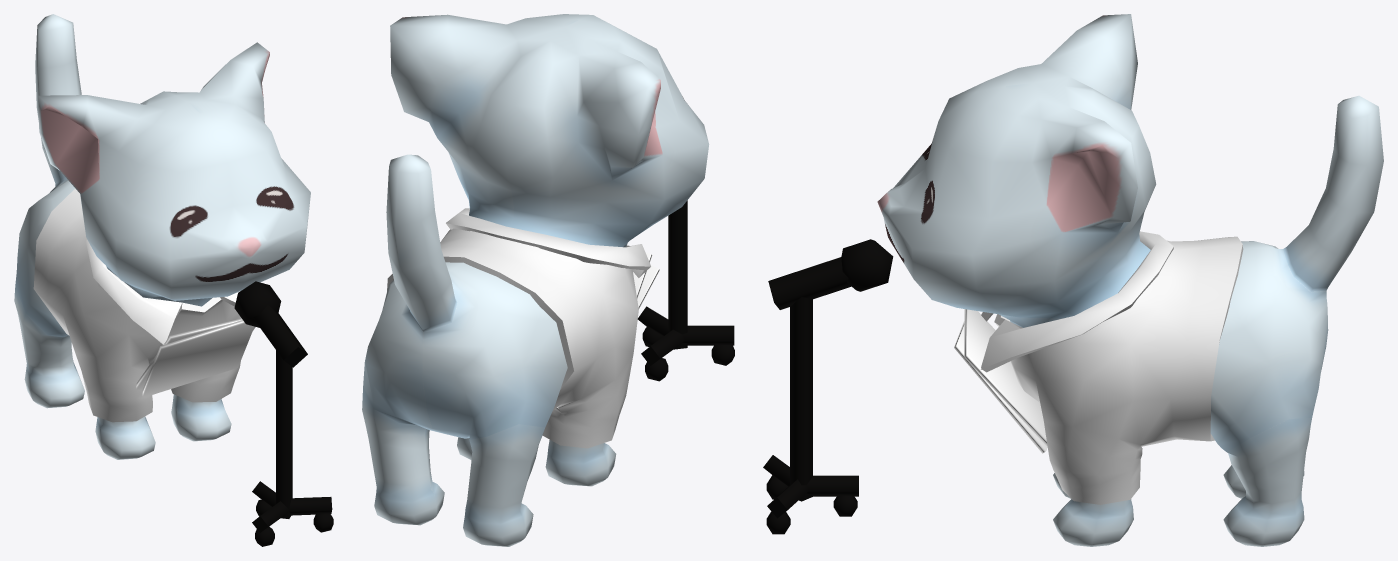
The model's file is Press Cat05.fbx.
The picture shows the model from 3 angles, left to right: view 1: azimuth 30°, elevation 25°; view 2: azimuth 150°, elevation 25°; view 3: azimuth 270°, elevation 25°; orthographic projection. The views are drawn at different scales.
Parts seen in each view (by area): view 1: Cat_Base004, Press_Cat_Shirt, Press_Cat_Mic, Press_Cat_Script; view 2: Cat_Base004, Press_Cat_Shirt, Press_Cat_Mic, Press_Cat_Script; view 3: Cat_Base004, Press_Cat_Shirt, Press_Cat_Mic, Press_Cat_Script.
Part boxes in pixels (x1,y1,x2,y2): Cat_Base004: (14,14,310,459); Press_Cat_Shirt: (33,188,241,422); Press_Cat_Mic: (234,281,333,546); Press_Cat_Script: (136,318,255,397); Cat_Base004: (362,14,709,546); Press_Cat_Shirt: (387,208,650,448); Press_Cat_Mic: (637,200,734,381); Press_Cat_Script: (633,252,659,309); Cat_Base004: (877,14,1383,546); Press_Cat_Shirt: (981,231,1243,504); Press_Cat_Mic: (763,239,893,534); Press_Cat_Script: (954,309,1047,453).
Bounding box in the file's own units: 1.75 × 3.47 × 2.68.
Materials: 3 (1 with a texture image).
